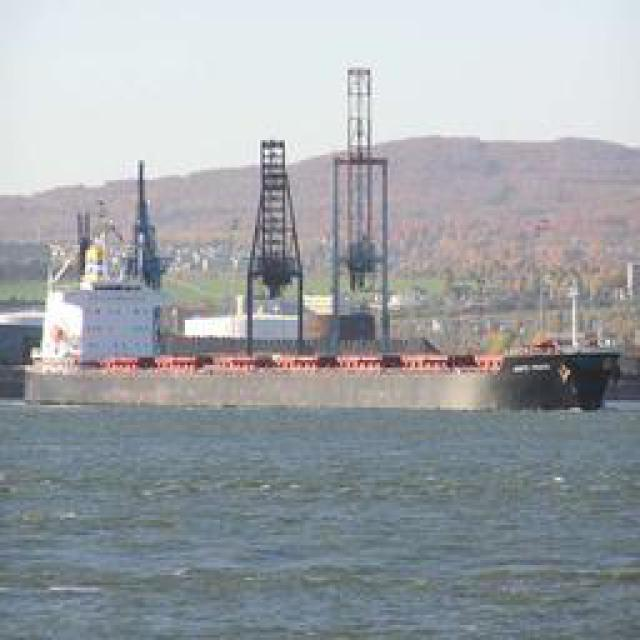Ship: (33, 326, 621, 411)
